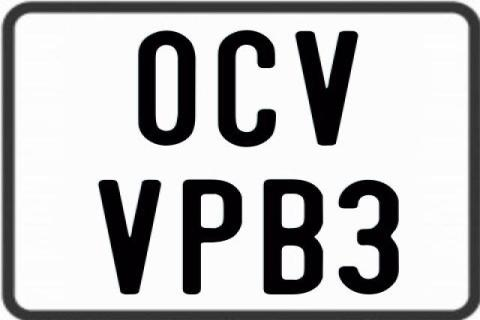0: (338, 178, 404, 292), (136, 30, 197, 146)
B: (264, 177, 329, 293)
C: (218, 29, 278, 147)
P: (180, 178, 244, 298)
V: (95, 178, 163, 296), (293, 29, 360, 148)
